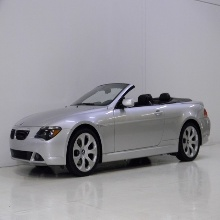no damage: (9, 81, 210, 176)
